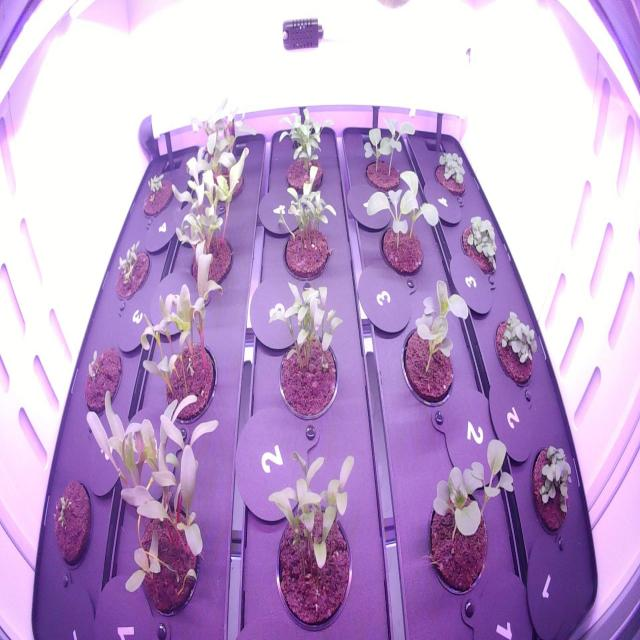germination: (47, 472, 95, 573), (80, 340, 125, 421), (110, 234, 155, 307), (139, 167, 179, 217)
